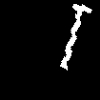half_double_crochet: (60, 4, 91, 68)
